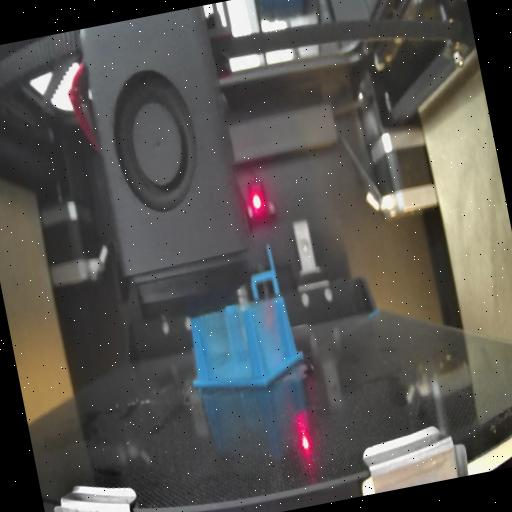stringing: (196, 306, 258, 388), (250, 297, 298, 382)
